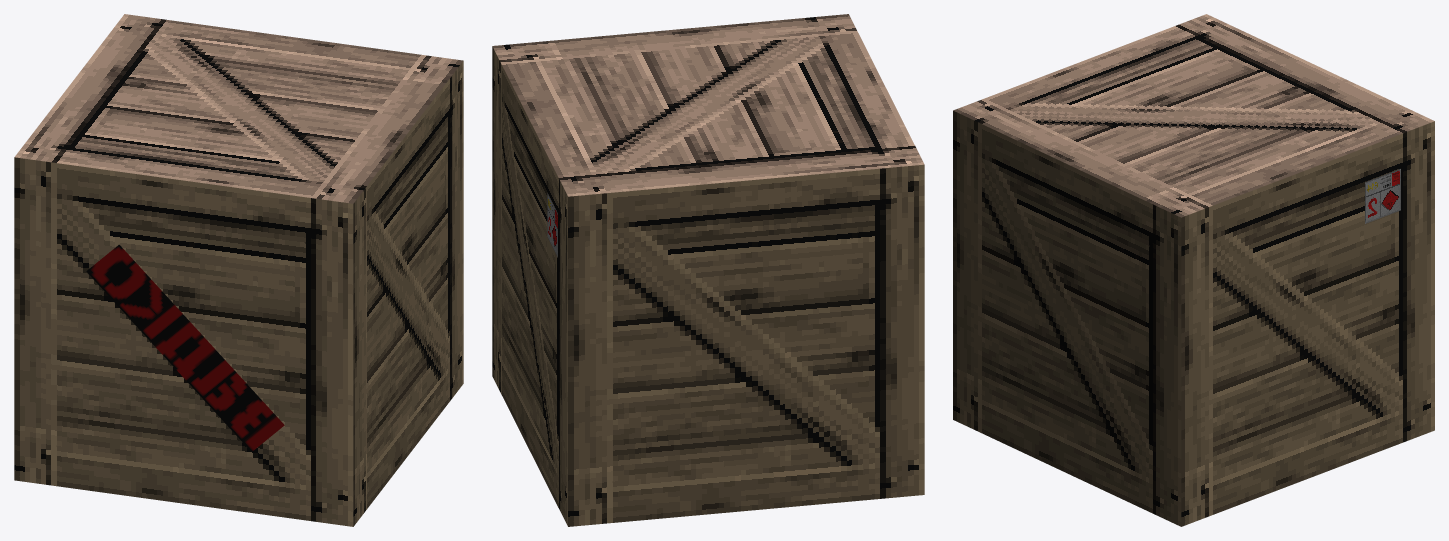
File: primary_083.glb
3 views of the same model, side by side, from view 1: azimuth 30°, elevation 25°; view 2: azimuth 150°, elevation 25°; view 3: azimuth 270°, elevation 25° (orthographic). The views are drawn at different scales.
Visible parts, largest first — view 1: Object; view 2: Object; view 3: Object.
Boxes of the visible parts, x1,y1,x2,y2 form: Object: (14, 14, 463, 526); Object: (492, 14, 924, 526); Object: (953, 14, 1434, 526).
Bounding box in the file's own units: 1.74 × 1.23 × 1.74.
7 materials, 7 textured.
